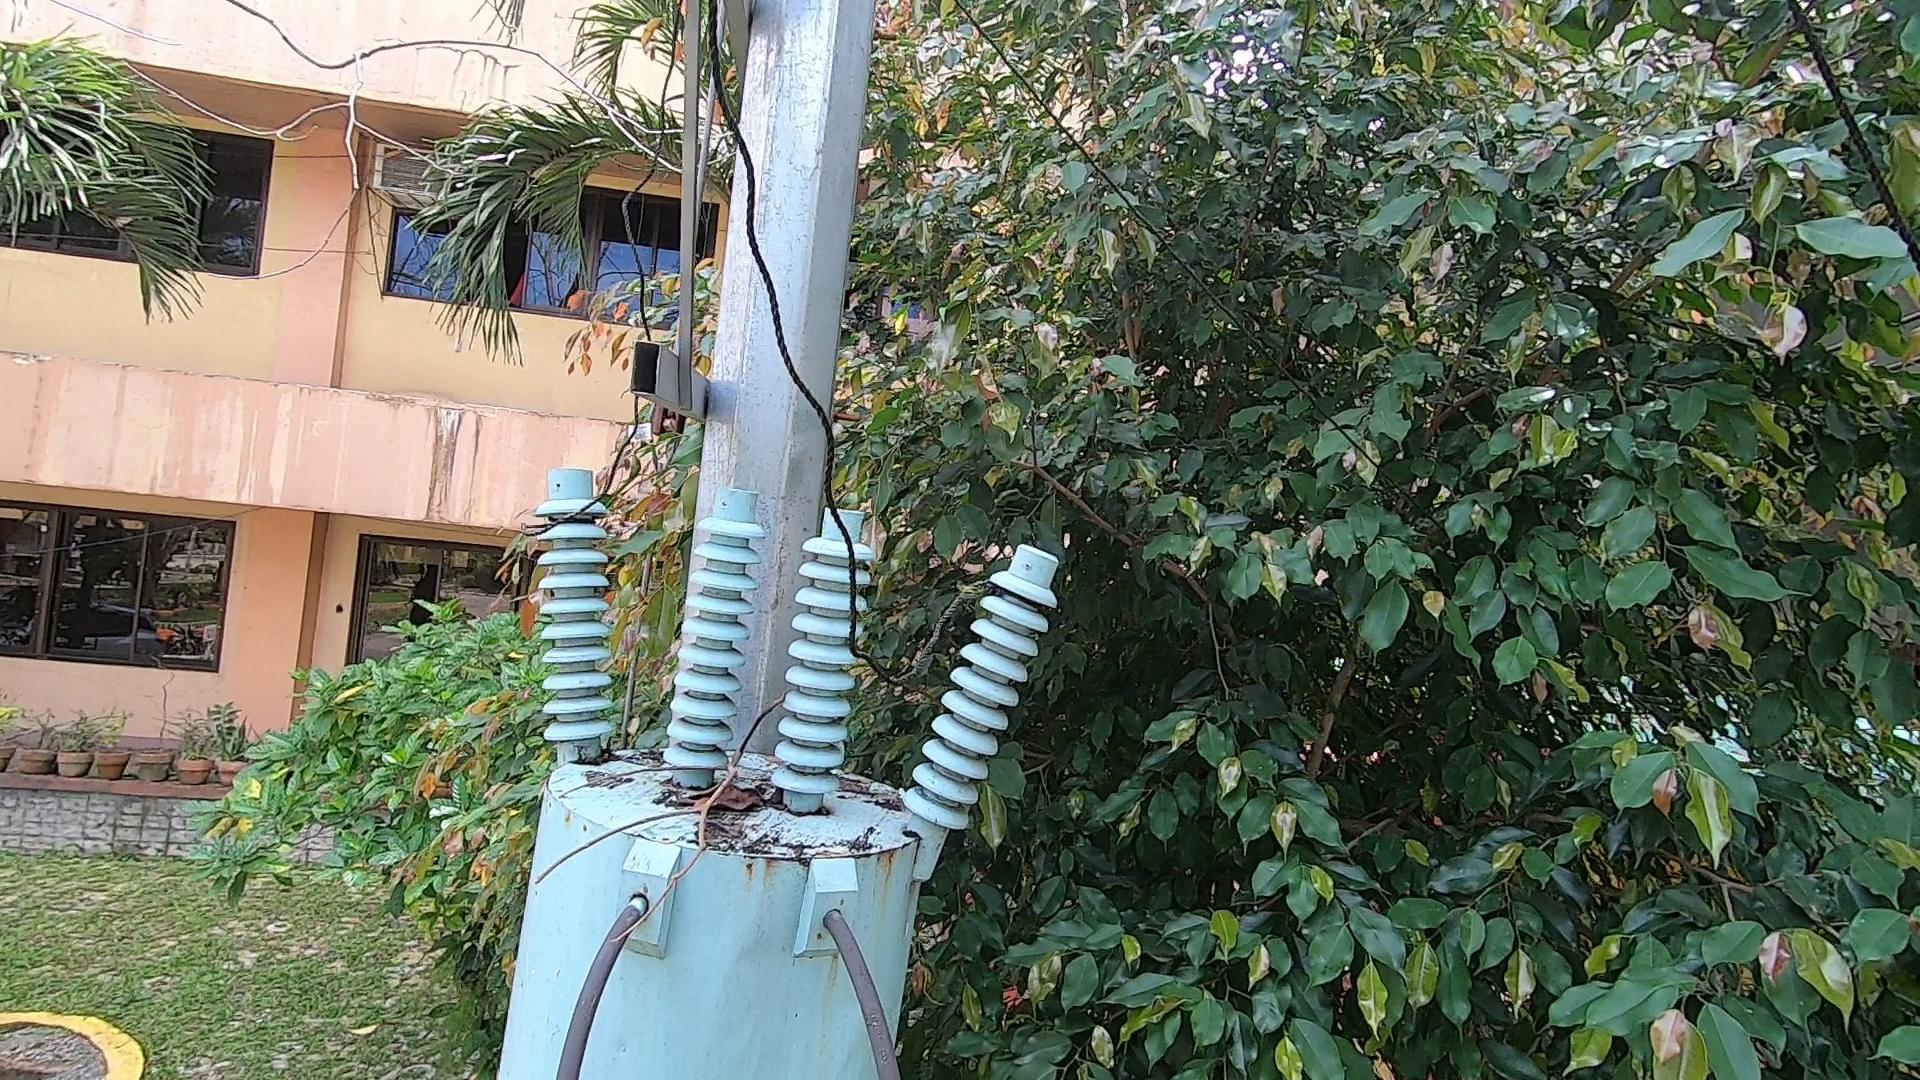leaf: (679, 760, 793, 829), (833, 769, 902, 814), (570, 744, 629, 781)
tree branch: (531, 702, 825, 959)
